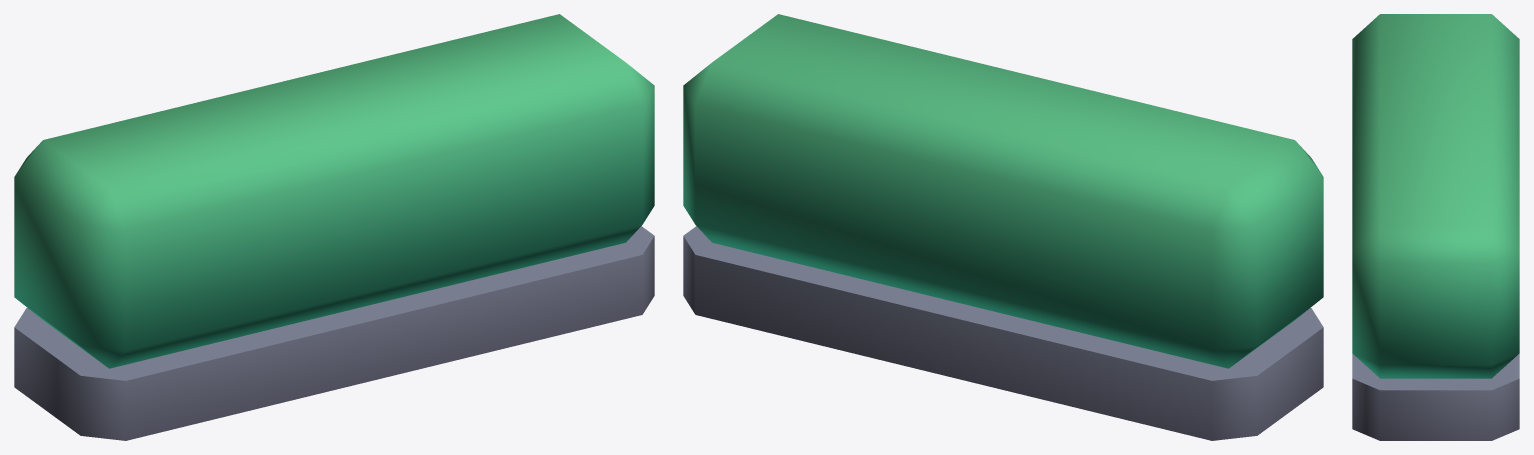
Rendered from hedge.glb.
3 renders of one model, left to right at view 1: azimuth 30°, elevation 25°; view 2: azimuth 150°, elevation 25°; view 3: azimuth 270°, elevation 25°, orthographic. The views are drawn at different scales.
Parts seen in each view (by area): view 1: hedge; view 2: hedge; view 3: hedge.
Boxes of the visible parts, bbox=[...] form: hedge: bbox=[14, 14, 654, 440]; hedge: bbox=[683, 14, 1323, 440]; hedge: bbox=[1352, 14, 1519, 440].
Size of the model in its own units: 3 by 1.2 by 0.8999.
Materials: 1 (1 with a texture image).
